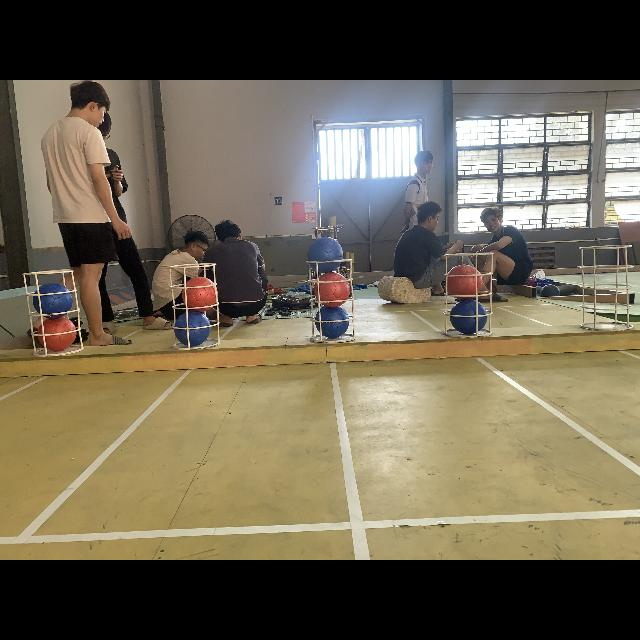B: (33, 284, 73, 318), (450, 300, 488, 334), (174, 312, 210, 346), (307, 238, 343, 272), (315, 306, 349, 338)
R: (314, 271, 351, 307), (182, 276, 218, 312), (446, 265, 482, 299), (38, 318, 76, 350)
